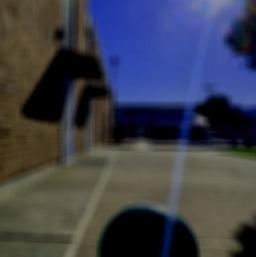algae: (96, 202, 199, 257)
